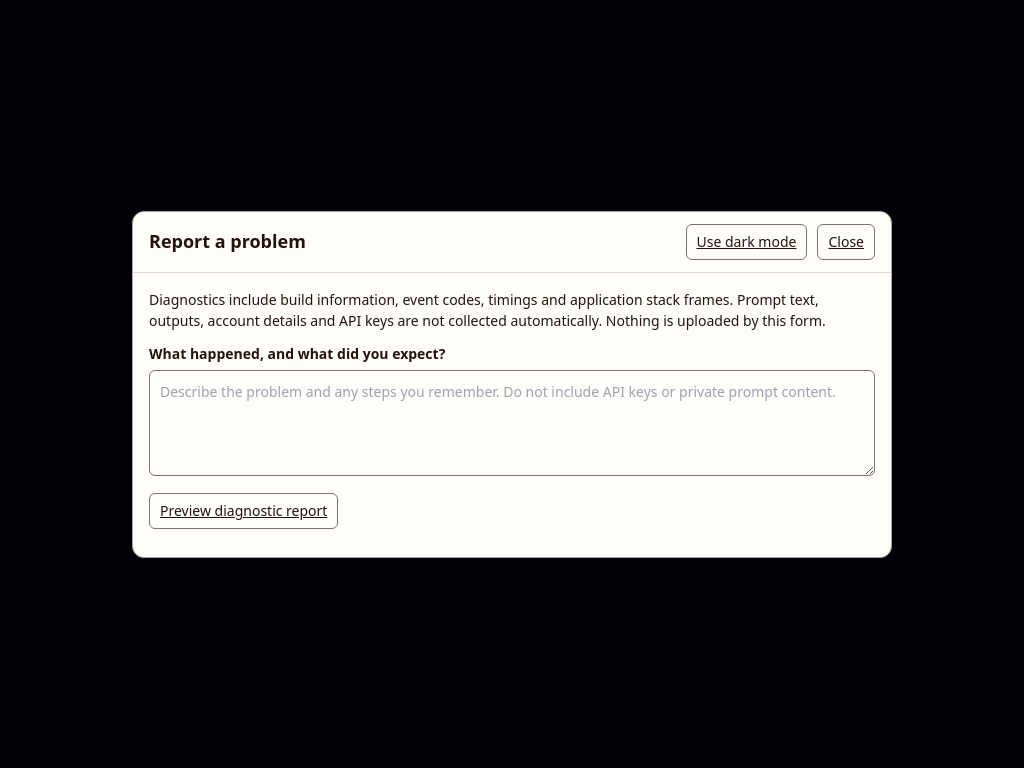
Test: shows clipboard denial instead of claiming a report was copied
The image size is (1024, 768).
Click the button "Preview diagnostic report" at (244, 510), box [149,492,338,528]
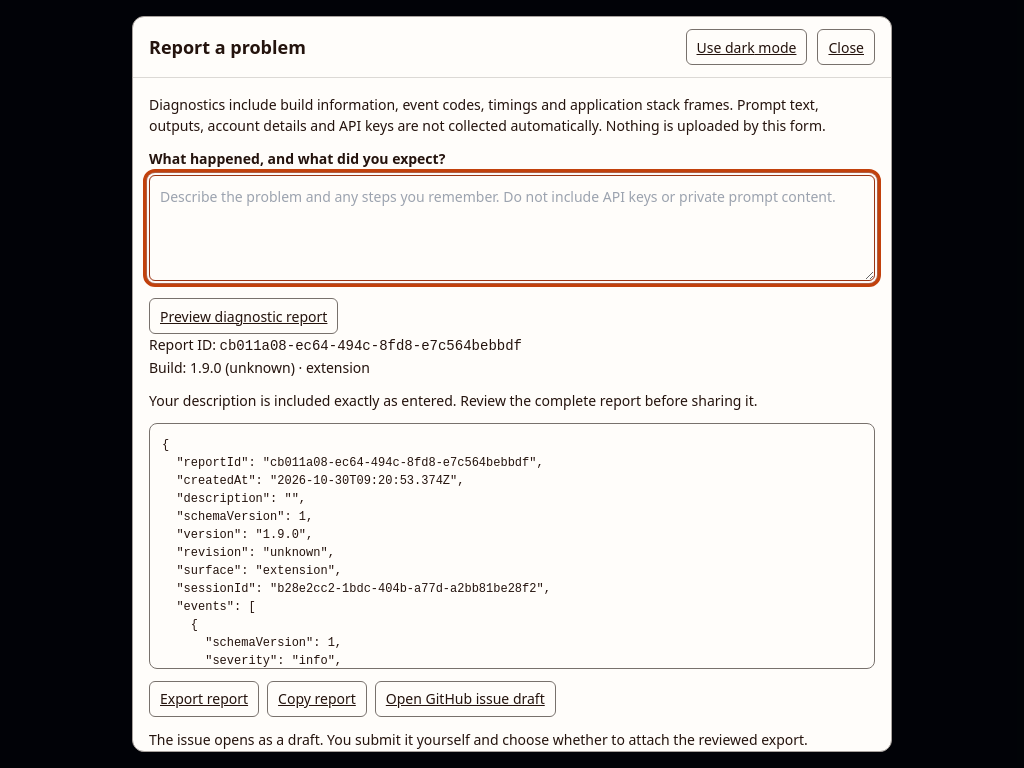
Expected: the text named "Complete diagnostic report" is shown, [149,423,875,669]
Click the button "Copy report" at (317, 699), box [267,681,367,717]
(page scrolled)
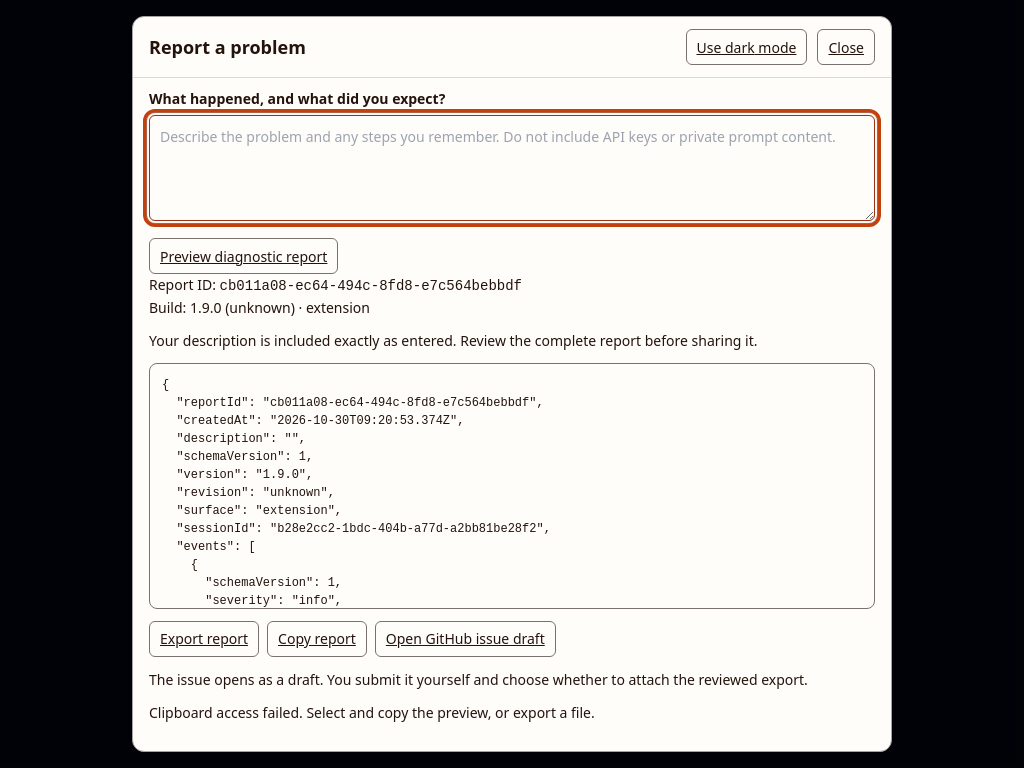
Expected: the message shows "Clipboard access failed", [149,703,595,722]
